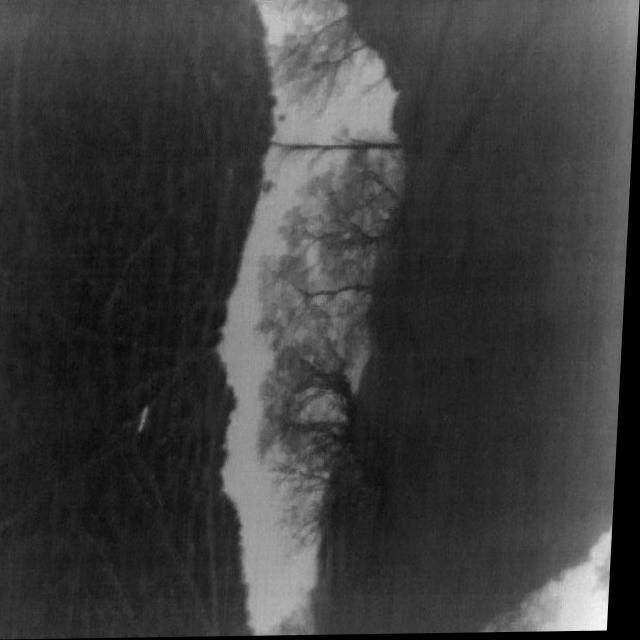deer: (141, 407, 155, 434)
